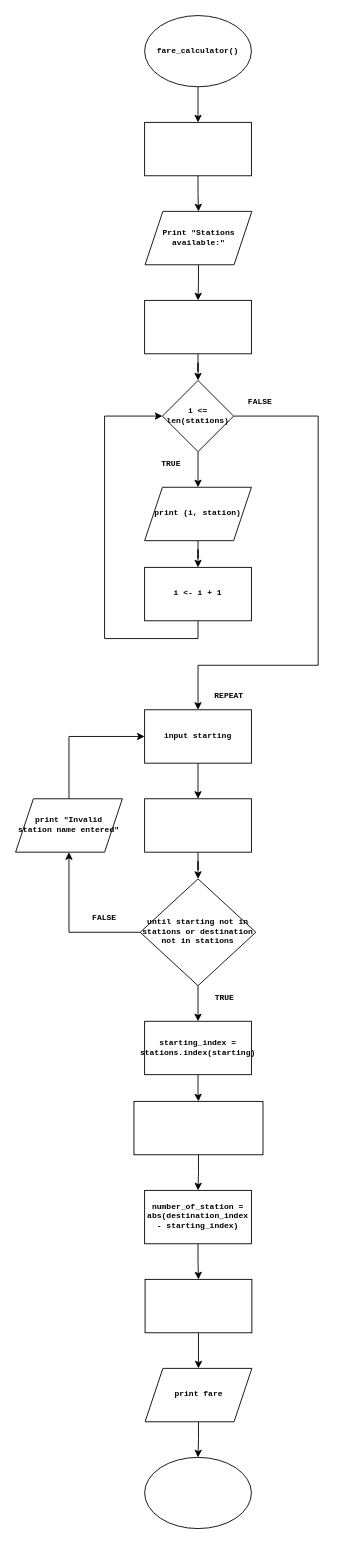
The diagram is 341 pixels wide and 1544 high, and some of its shapes have lost their labels. Each missing label, with the centre of its shape:
"destination_index = stations.index(destination)" belongs at (x=198, y=1127).
"EXIT" belongs at (x=197, y=1492).
"fare = 2 * number_of_station" belongs at (x=198, y=1305).
"i <- 1" belongs at (x=197, y=326).
"initialize stations list" belongs at (x=197, y=148).
"input destination" belongs at (x=197, y=825).
